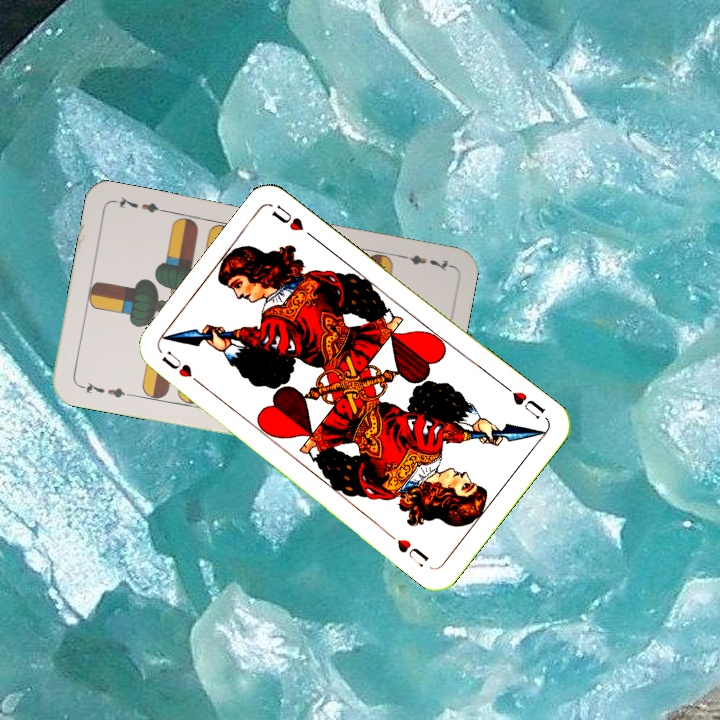E7: (75, 377, 134, 401), (394, 250, 453, 274)
HU: (157, 346, 207, 390), (499, 381, 548, 422)
